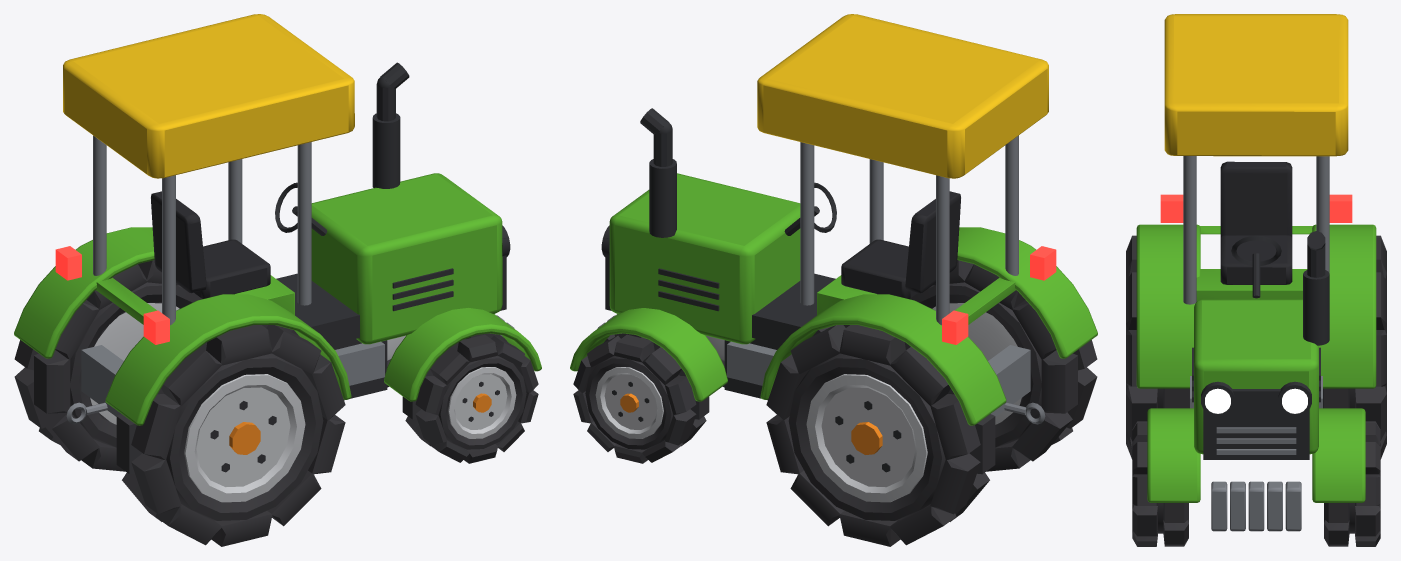
Rendered from tractor.glb.
3 views of the same model, side by side, from view 1: azimuth 30°, elevation 25°; view 2: azimuth 150°, elevation 25°; view 3: azimuth 270°, elevation 25° (orthographic). The views are drawn at different scales.
Parts seen in each view (by area): view 1: body, wheel_rear, wheel_front; view 2: body, wheel_rear, wheel_front; view 3: body, wheel_front, wheel_rear.
Boxes of the visible parts, x1,y1,x2,y2 form: body: [14, 14, 541, 425]; wheel_rear: [14, 260, 345, 546]; wheel_front: [387, 333, 538, 463]; body: [570, 14, 1097, 425]; wheel_rear: [766, 260, 1097, 546]; wheel_front: [573, 333, 724, 463]; body: [1136, 14, 1376, 531]; wheel_front: [1132, 421, 1380, 546]; wheel_rear: [1126, 235, 1386, 459].
Bounding box in the file's own units: 3.55 × 3.34 × 1.96.
